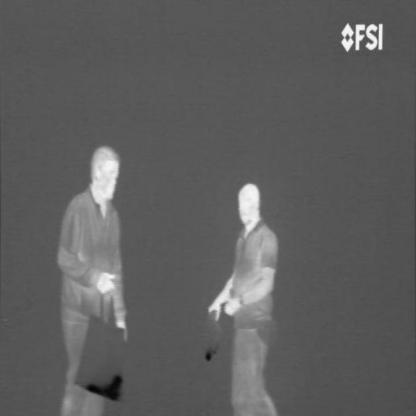weapon: (84, 370, 124, 404)
